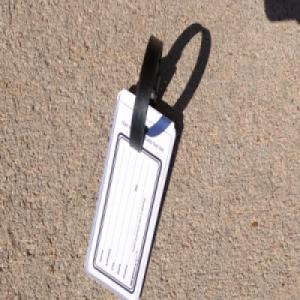LuggageTag: (84, 34, 177, 299)
